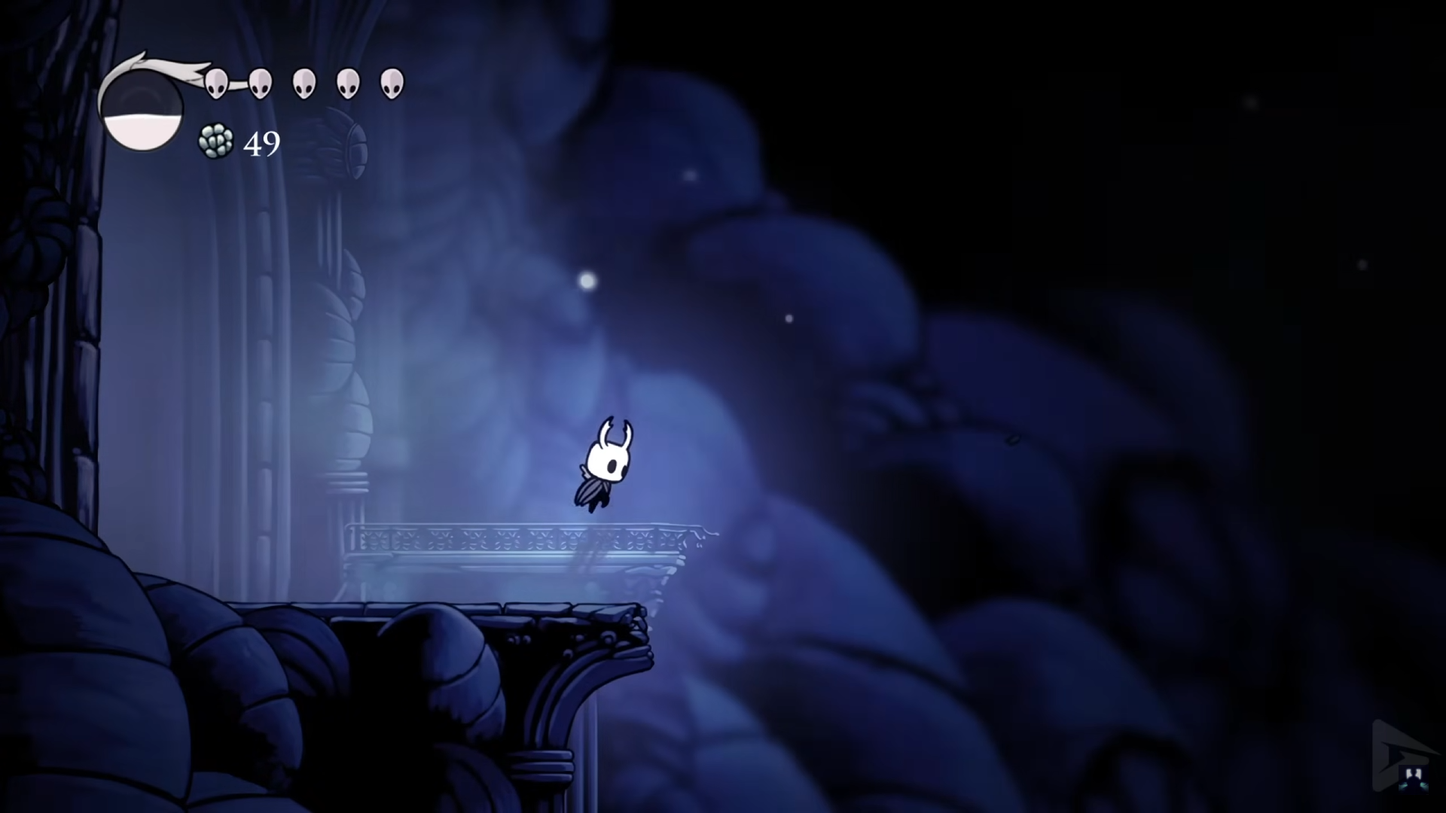HK: (571, 414, 637, 518)
